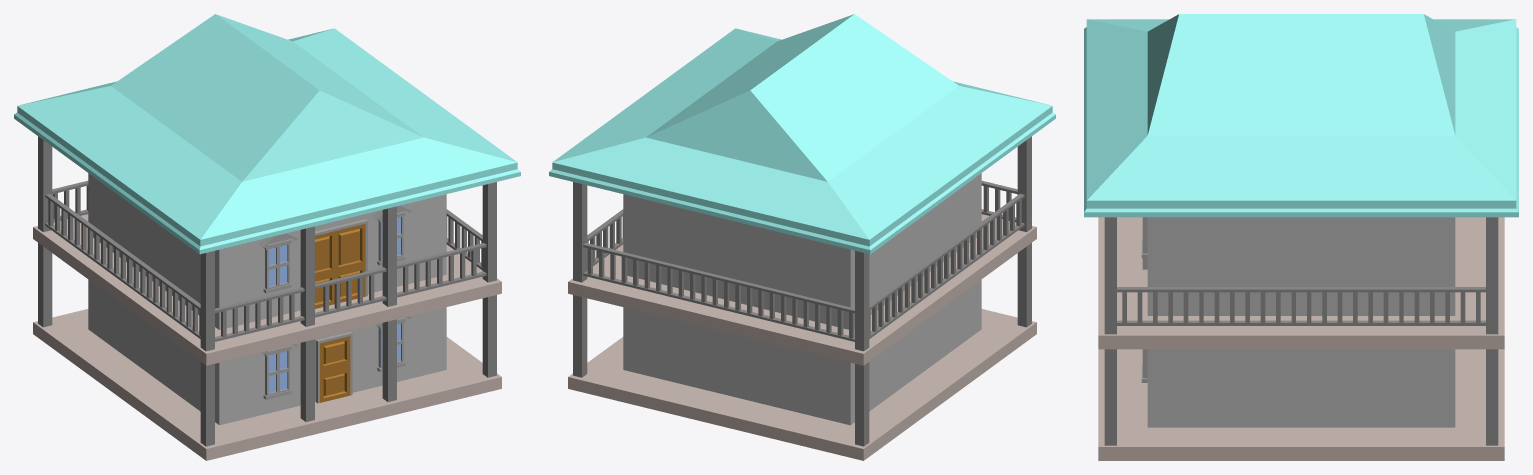
The model's file is House_01.fbx.
The picture shows the model from 3 angles, left to right: view 1: azimuth 30°, elevation 25°; view 2: azimuth 150°, elevation 25°; view 3: azimuth 270°, elevation 25°; orthographic projection. The views are drawn at different scales.
Visible parts, largest first — view 1: mesh_house_01; view 2: mesh_house_01; view 3: mesh_house_01.
Boxes of the visible parts, left/top/right/bottom form: mesh_house_01: left=14, top=14, right=520, bottom=460; mesh_house_01: left=549, top=14, right=1055, bottom=460; mesh_house_01: left=1084, top=14, right=1518, bottom=460.
Size of the model in its own units: 4.24 by 3.9 by 4.24.
